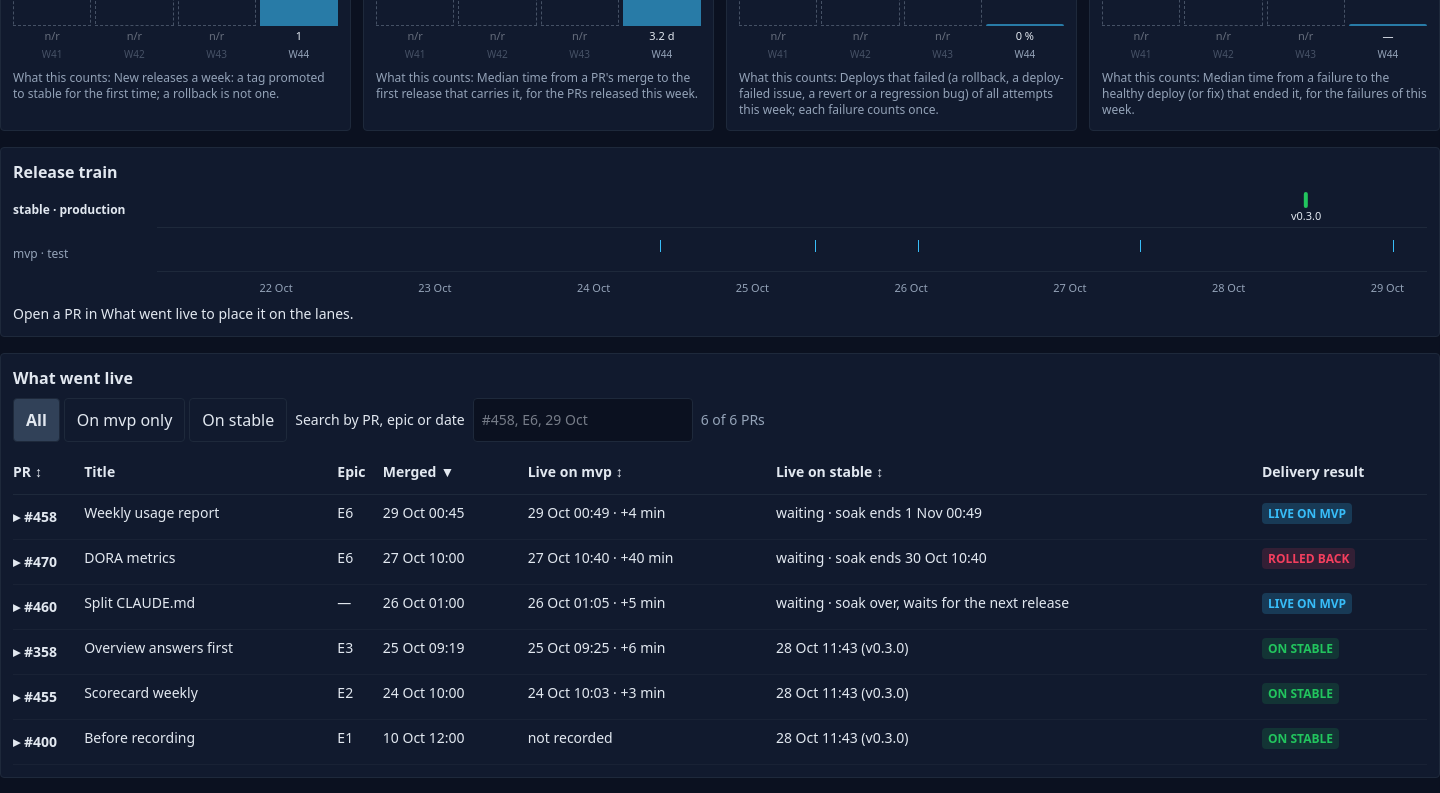
Test: Scenario: Delivery opens on stable; PR #358 opened › an opened row shows where the time went and its links; opening it again closes it
(page scrolled)
Click the button "▸ #358".
click(35, 652)  # box [13, 630, 57, 674]
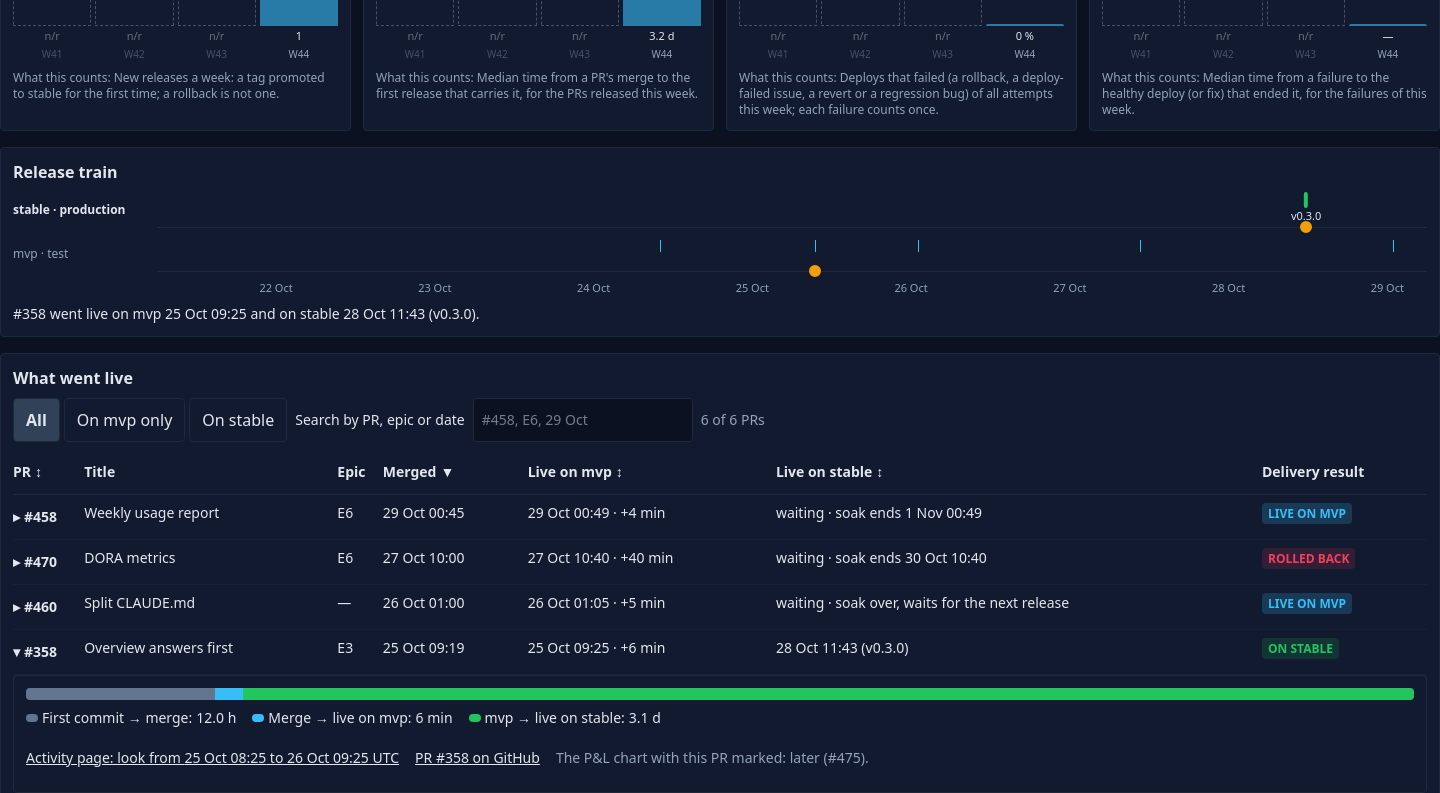
Result: the picture named "#358, where the time went: First commit → merge 12.0 h, Merge → live on mvp 6 min, mvp → live on stable 3.1 d" is shown at [26, 688, 1414, 700]
Result: the list item "The P&L chart with this PR marked: later (#475)." is shown at [556, 748, 869, 766]
Click the button "▾ #358".
click(35, 652)  # box [13, 630, 57, 674]
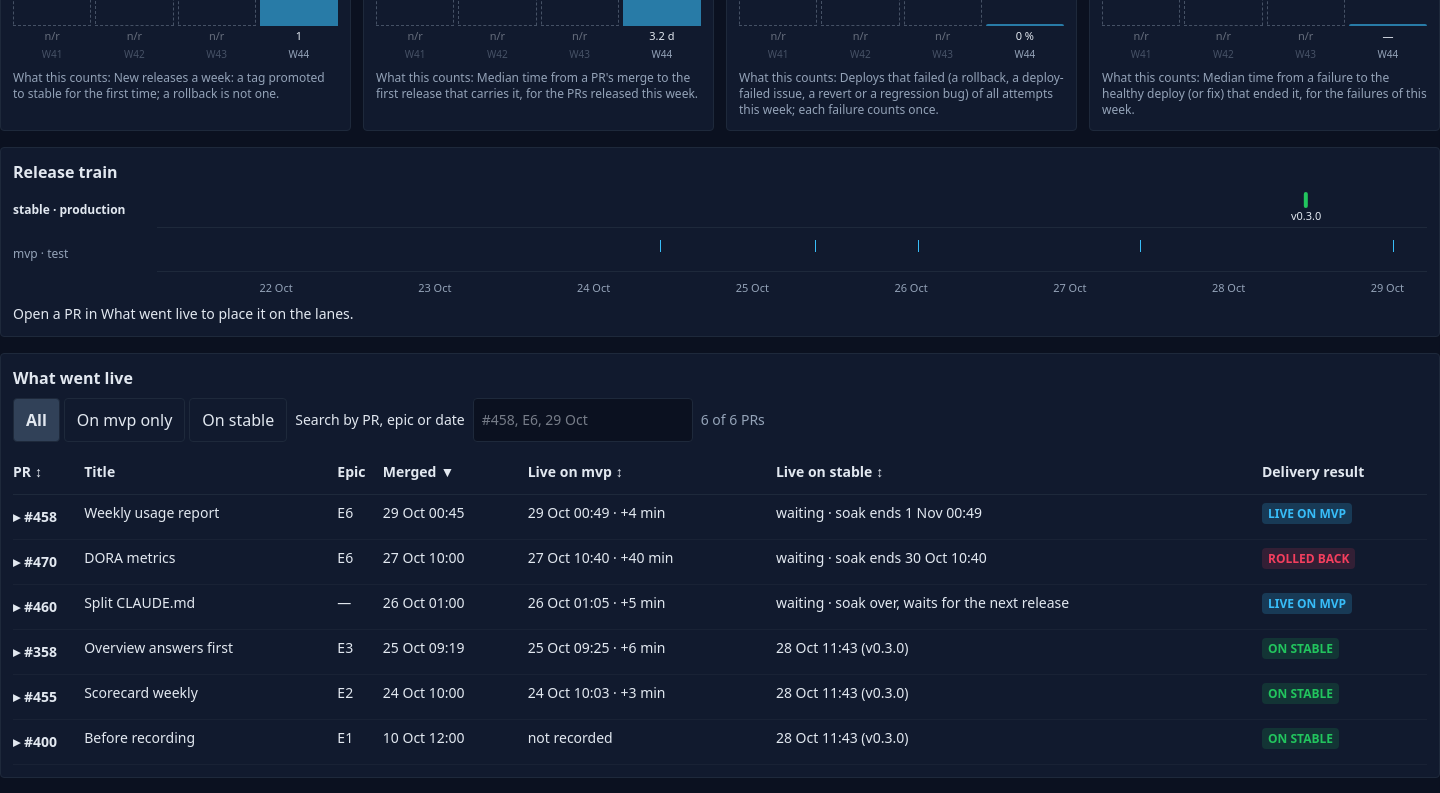
Result: the link "PR #358 on GitHub" is gone
